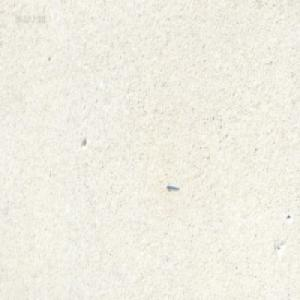Nail: (166, 181, 178, 190)
